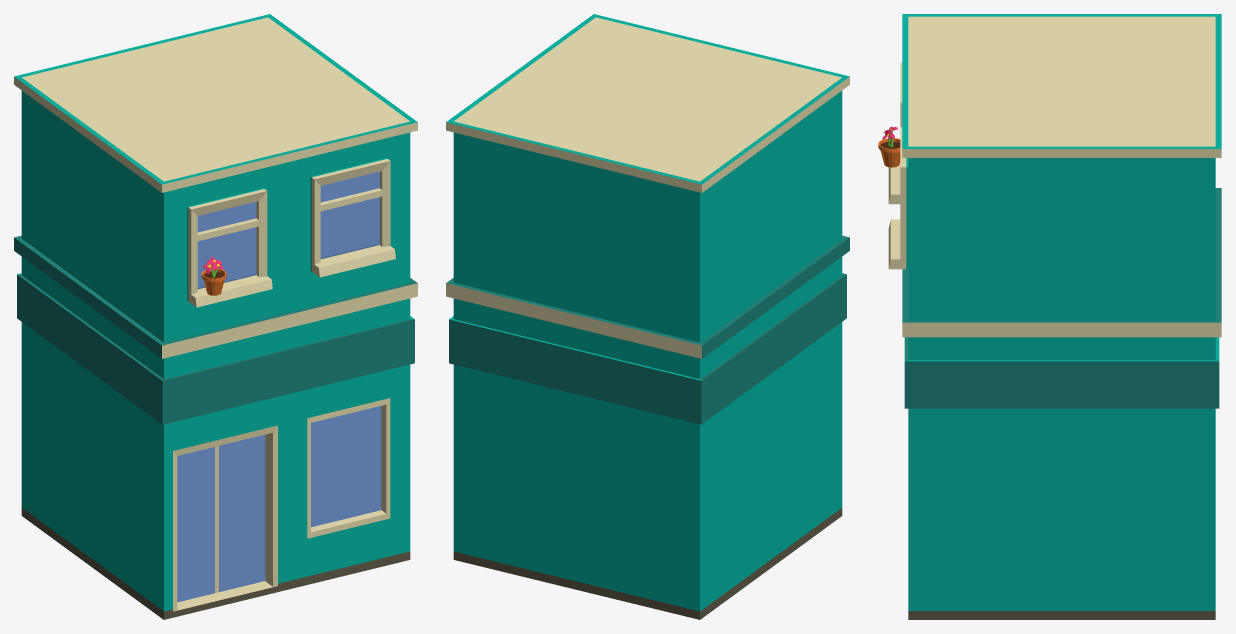
Rendered from buildingScene.gltf.
3 views of the same model, side by side, from view 1: azimuth 30°, elevation 25°; view 2: azimuth 150°, elevation 25°; view 3: azimuth 270°, elevation 25° (orthographic). The views are drawn at different scales.
Parts seen in each view (by area): view 1: building0, building1, vaso; view 2: building0, building1; view 3: building1, building0, vaso.
Boxes of the visible parts, left/top/right/bottom form: building0: left=14, top=235, right=417, bottom=619; building1: left=14, top=14, right=417, bottom=342; vaso: left=201, top=257, right=226, bottom=295; building0: left=446, top=235, right=849, bottom=619; building1: left=446, top=14, right=849, bottom=342; building1: left=888, top=14, right=1221, bottom=320; building0: left=902, top=188, right=1221, bottom=619; vaso: left=878, top=126, right=900, bottom=167.
Size of what is drawn, in the model's own units: 4.16 by 6.8 by 4.47.
